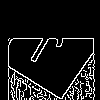J: (22, 26, 67, 80)
